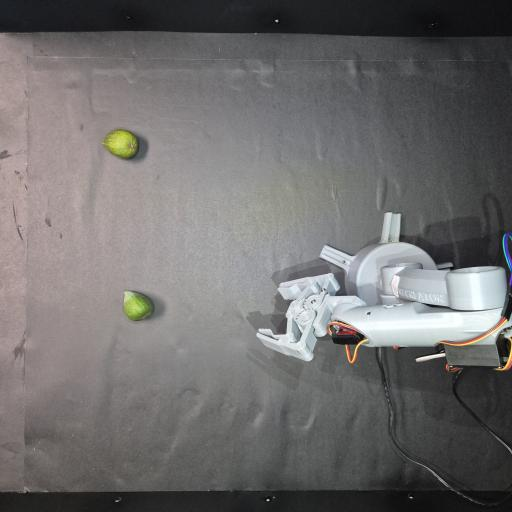higo: (102, 129, 139, 159), (124, 291, 154, 321)
